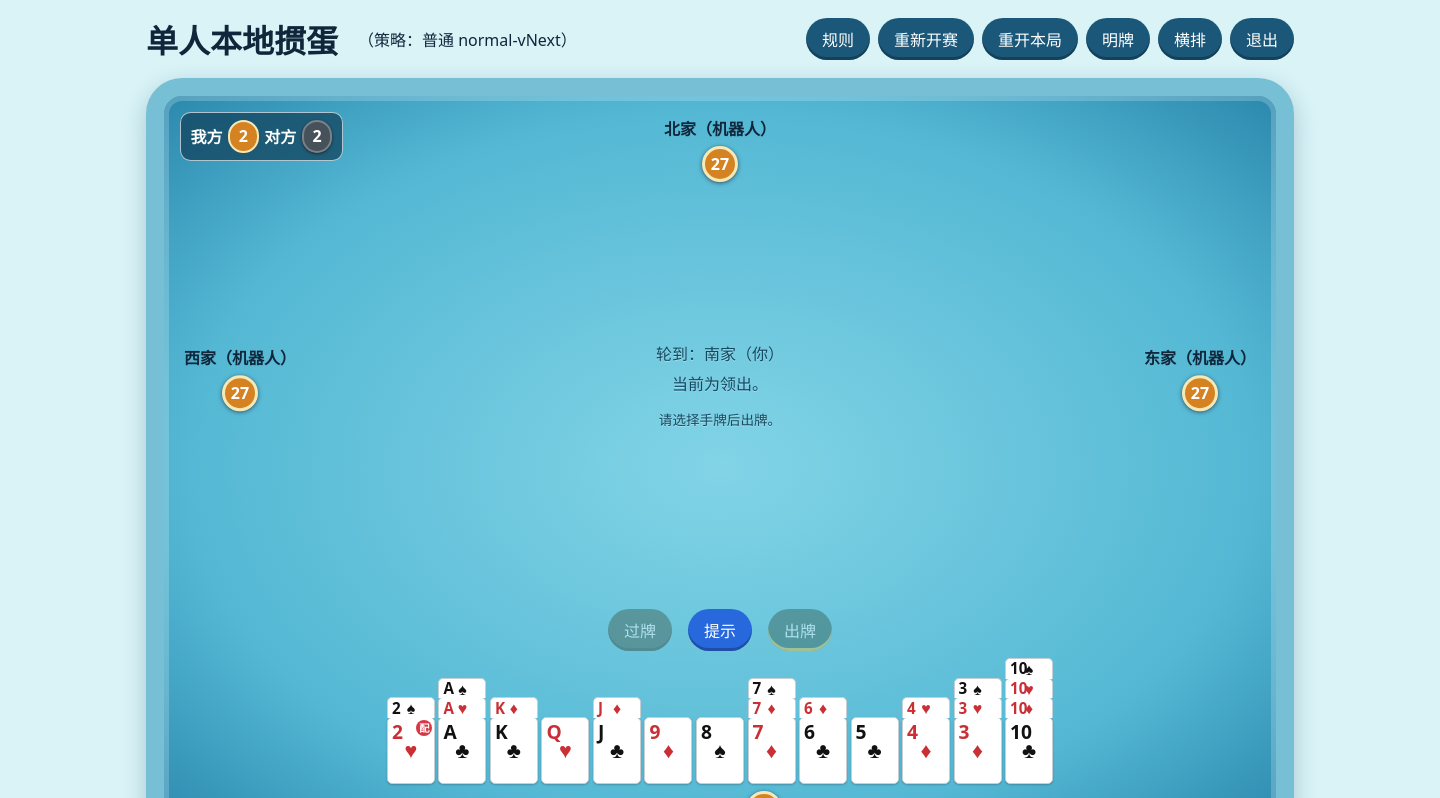
it: App › 明牌以同一组牌布局显示其他三家，并可立即关闭
Click the button "明牌".
click(1118, 39)  # box [1086, 18, 1150, 60]
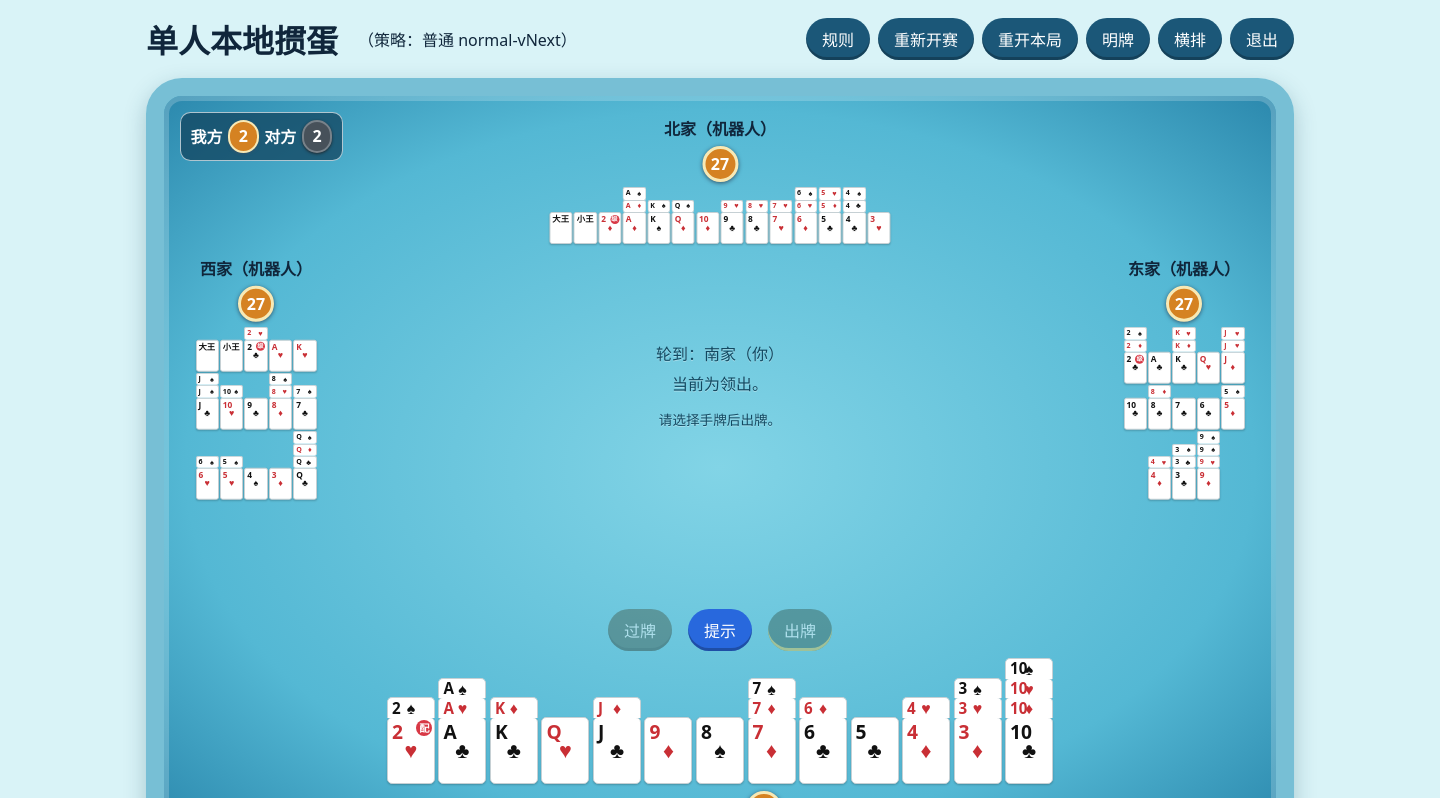
Click the button "明牌".
click(1118, 39)  # box [1086, 18, 1150, 60]
(page scrolled)
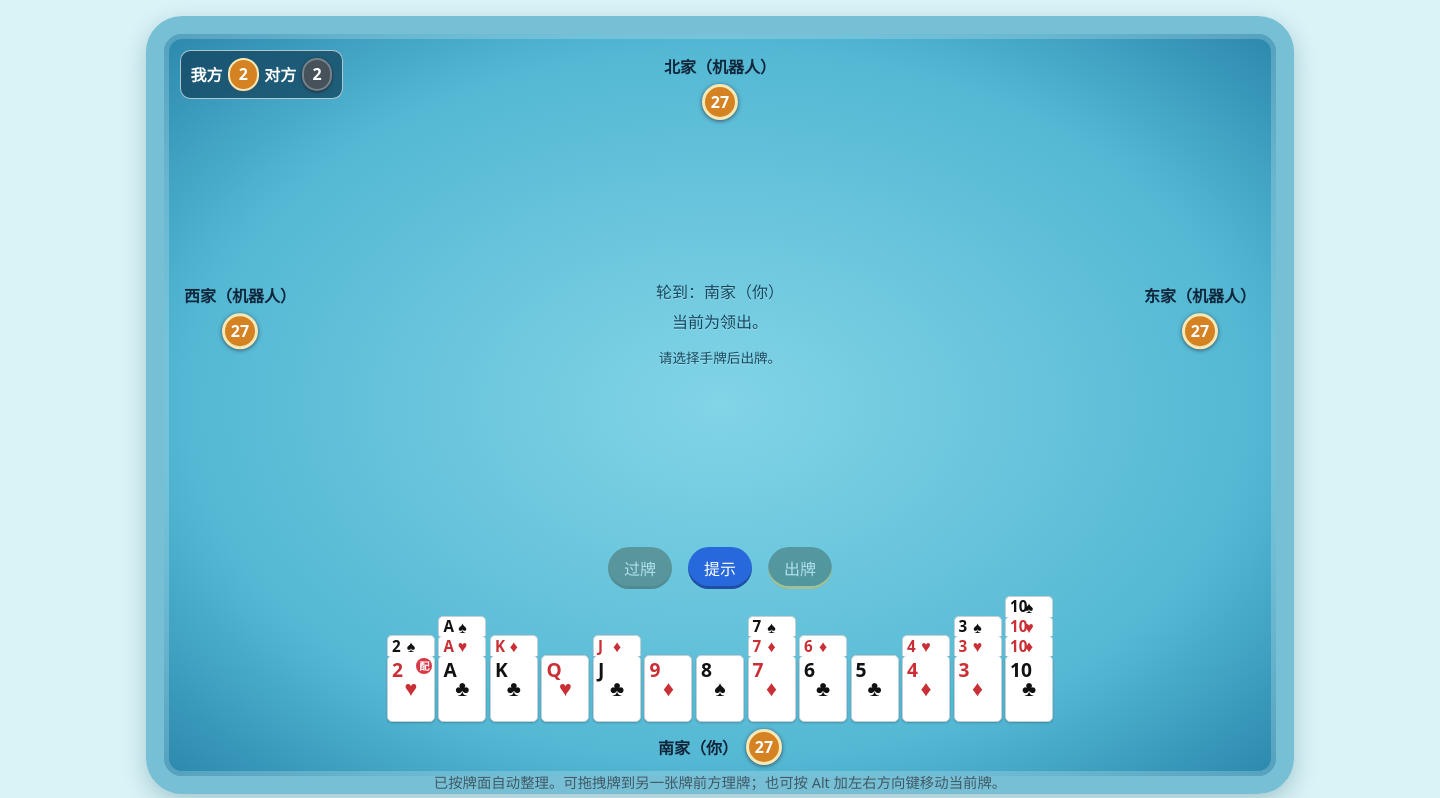
Expected: the field labelled "东家明牌" is gone
